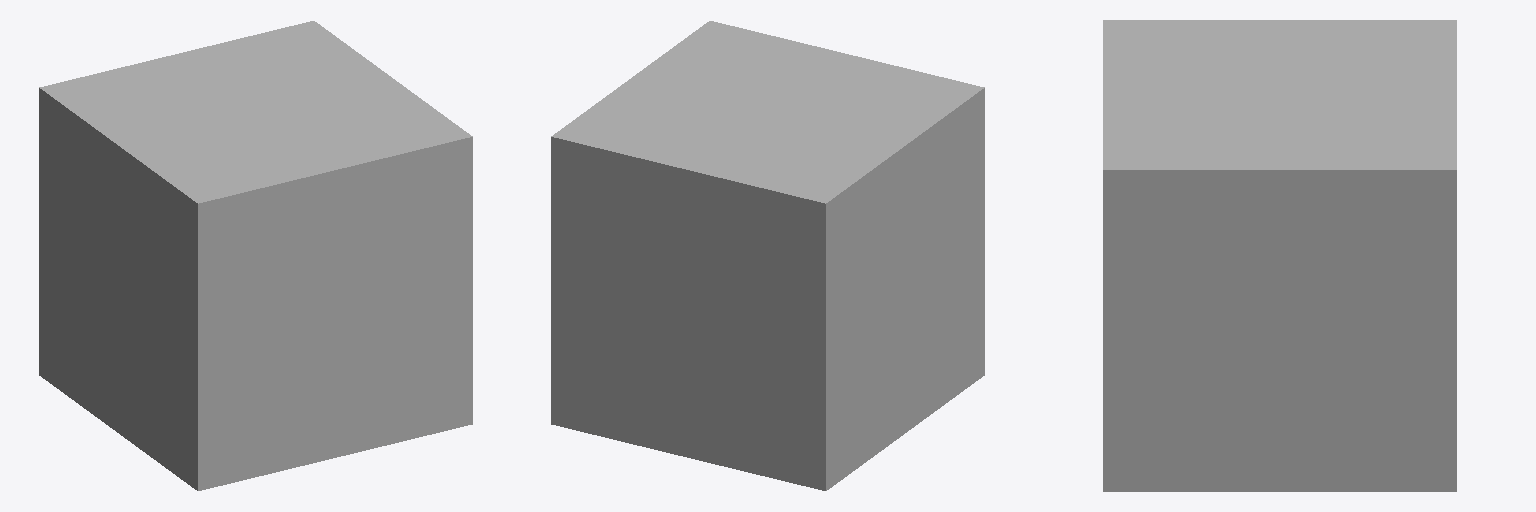
The robot description file, URDF, robot "root":
<robot name="root">
  <link name="link_ycb~cube_b5_convex_piece_0">
    <inertial>
      <origin xyz="0 0 0" rpy="0 0 0"/>
      <mass value="2.19E-01"/>
      <inertia ixx="5.28E-05" ixy="2.19E-13" ixz="-0.00E+00" iyy="5.28E-05" iyz="-0.00E+00" izz="5.28E-05"/>
    </inertial>
    <visual>
      <origin xyz="0 0 0" rpy="0 0 0"/>
      <geometry>
        <mesh filename="ycb~cube_b5_convex_piece_0.obj" scale="1.0000E+00 1.0000E+00 1.0000E+00"/>
      </geometry>
      <material name="">
        <color rgba="7.50E-01 7.50E-01 7.50E-01 1"/>
      </material>
    </visual>
    <collision>
      <origin xyz="0 0 0" rpy="0 0 0"/>
      <geometry>
        <mesh filename="ycb~cube_b5_convex_piece_0.obj" scale="1.0000E+00 1.0000E+00 1.0000E+00"/>
      </geometry>
    </collision>
  </link>
</robot>

--- Render facts (derived) ---
3 views of the same robot in one strip: view 1: azimuth 30°, elevation 25°; view 2: azimuth 150°, elevation 25°; view 3: azimuth 270°, elevation 25° (orthographic).
Model root with 1 links and 0 joints (none), rooted at link_ycb~cube_b5_convex_piece_0, posed every joint at zero.
Visible links, largest first — view 1: link_ycb~cube_b5_convex_piece_0; view 2: link_ycb~cube_b5_convex_piece_0; view 3: link_ycb~cube_b5_convex_piece_0.
Link boxes in pixels (x1,y1,x2,y2): link_ycb~cube_b5_convex_piece_0: (39, 21, 472, 490); link_ycb~cube_b5_convex_piece_0: (551, 21, 984, 490); link_ycb~cube_b5_convex_piece_0: (1103, 20, 1456, 491).
Size in the robot's own frame: 0.038 by 0.038 by 0.038 metres.
1 mesh visuals loaded from 1 distinct referenced files (1 OBJ).